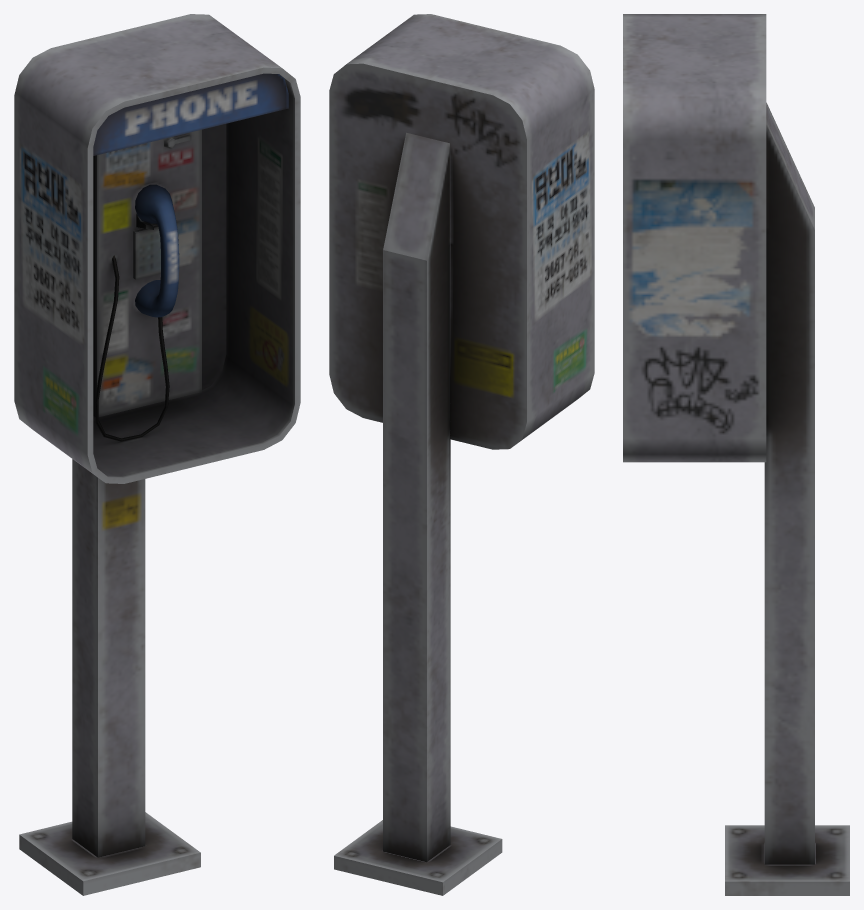
The model's file is Phone_Booth_01.fbx.
3 renders of one model, left to right at view 1: azimuth 30°, elevation 25°; view 2: azimuth 150°, elevation 25°; view 3: azimuth 270°, elevation 25°, orthographic. The views are drawn at different scales.
Parts seen in each view (by area): view 1: Phone_Booth; view 2: Phone_Booth; view 3: Phone_Booth.
Boxes of the visible parts, left/top/right/bottom form: Phone_Booth: left=14, top=14, right=300, bottom=895; Phone_Booth: left=329, top=14, right=594, bottom=895; Phone_Booth: left=623, top=14, right=849, bottom=895.
Size of the model in its own units: 52.85 by 198 by 49.82.
